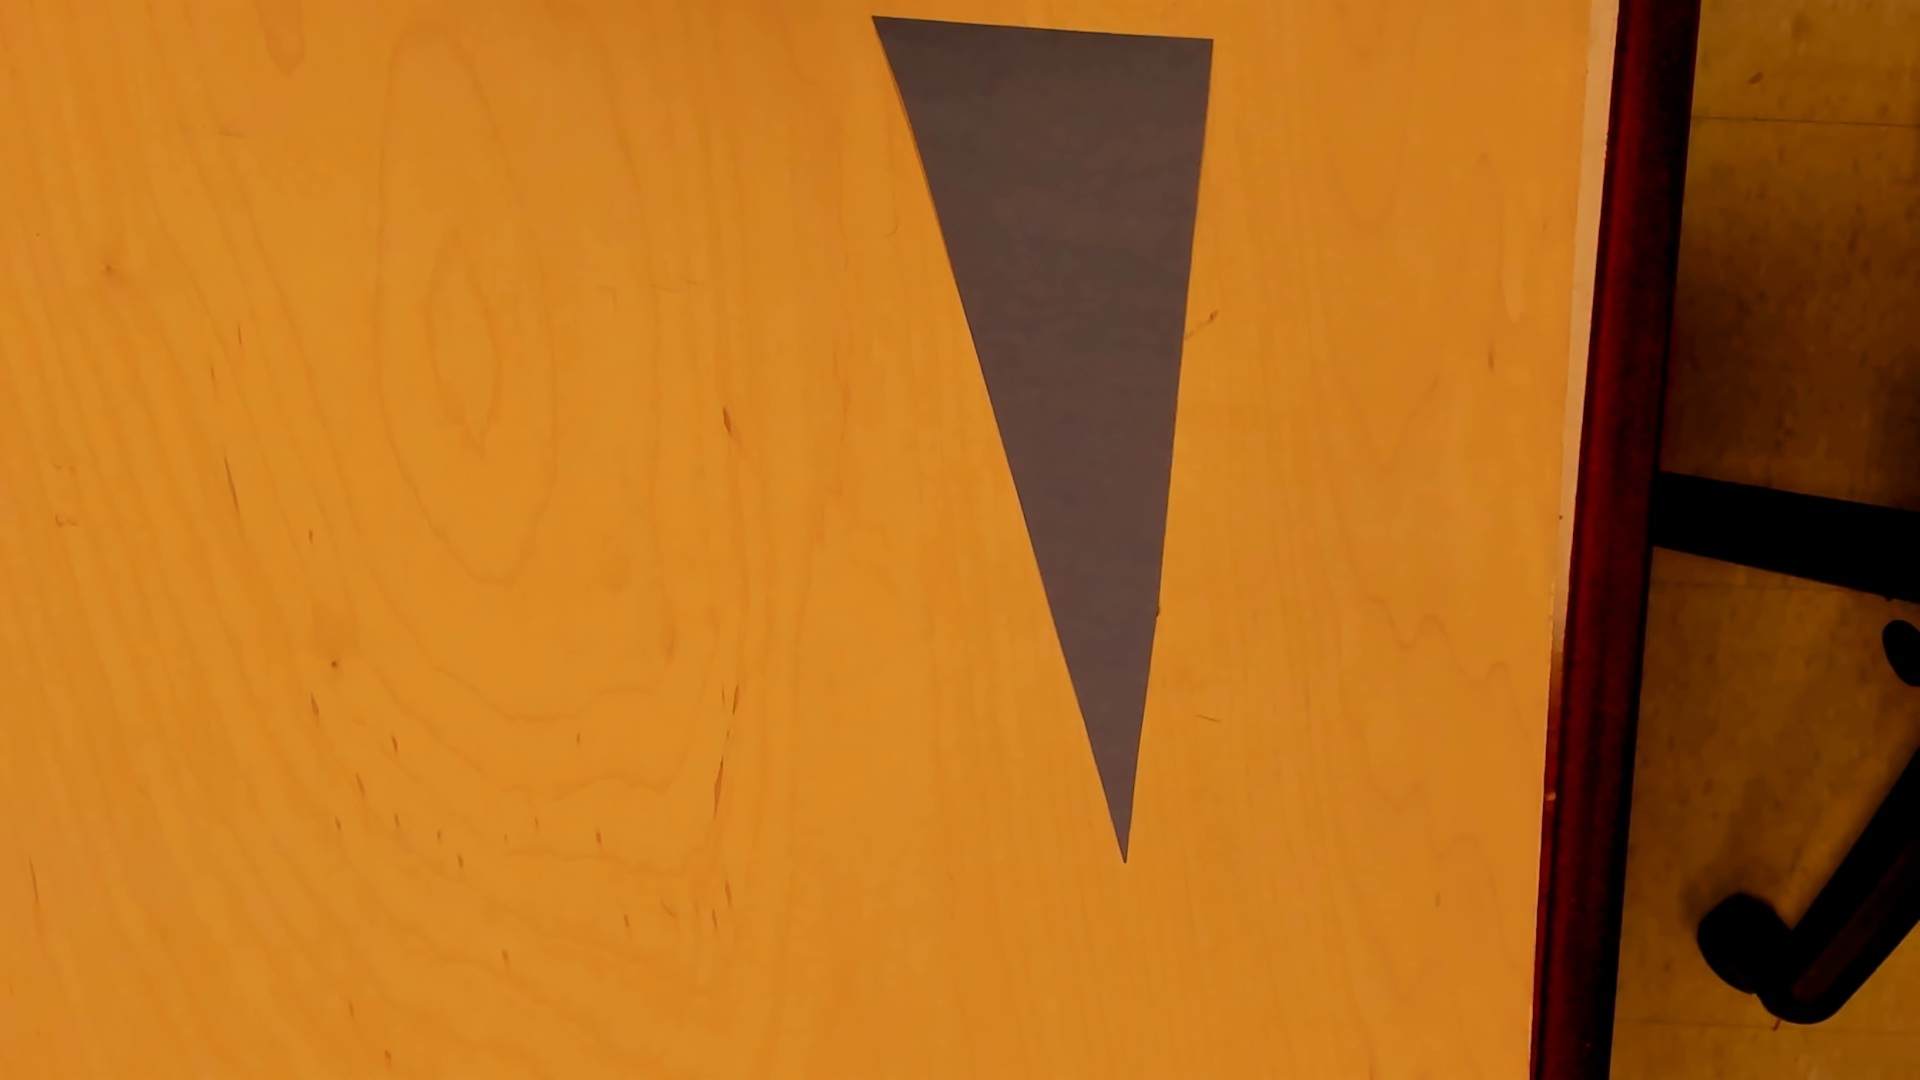PT: (868, 11, 1217, 866)
